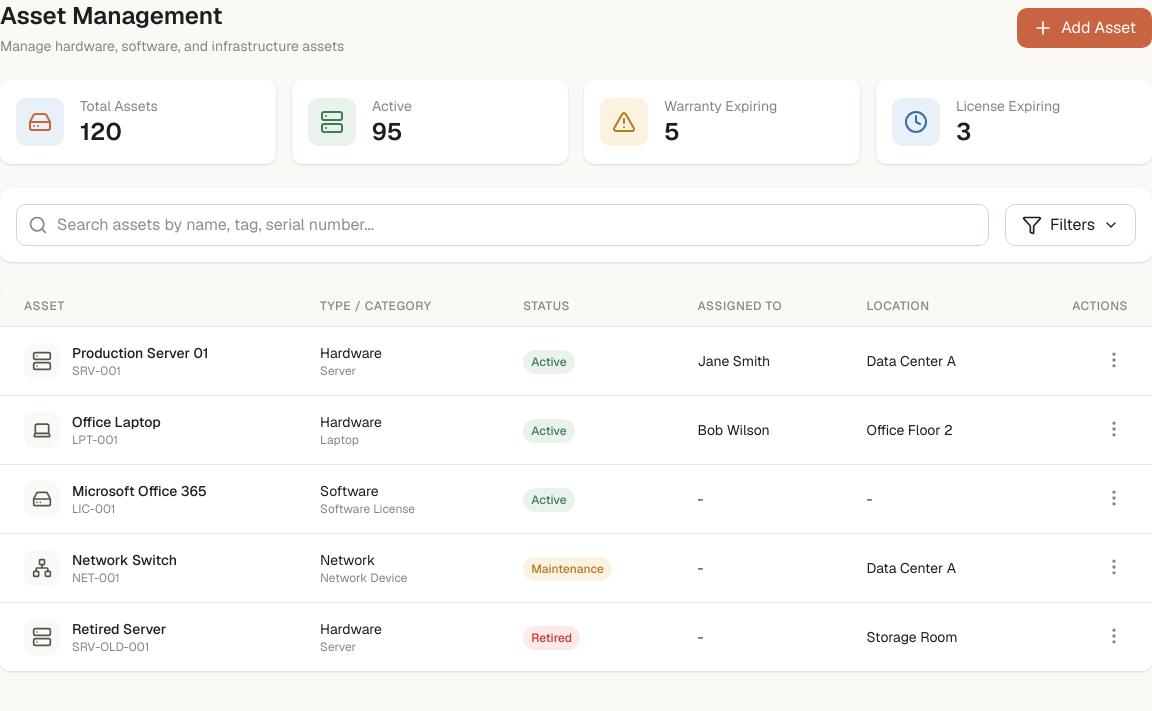
AssetsPage › Asset Detail Drawer › should render hardware details section
What coordinates should you click on to do the following:
click the text "Production Server 01"
I would click on:
 (140, 353)
Its box is x1=72 y1=343 x2=208 y2=363.
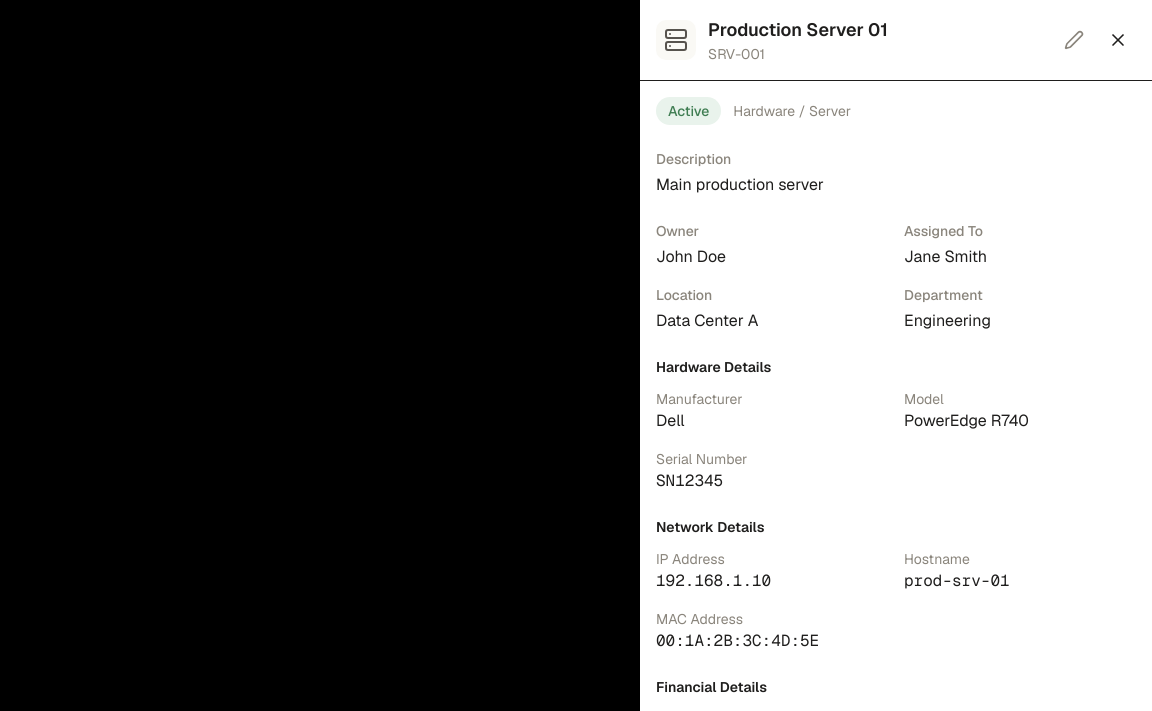
Now the heading "Hardware Details" is shown, box x1=656 y1=358 x2=771 y2=376
Now the text "Dell" is shown, box x1=656 y1=410 x2=685 y2=431
Now the text "PowerEdge R740" is shown, box x1=904 y1=410 x2=1029 y2=431
